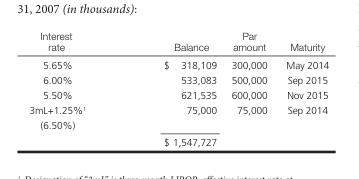table: (28, 28, 328, 147)
table column: (124, 28, 223, 147), (28, 28, 124, 147), (275, 28, 328, 147), (223, 28, 275, 147)
table column header: (28, 28, 328, 55)
table row: (28, 102, 328, 133), (28, 28, 328, 55), (28, 55, 328, 72), (28, 72, 328, 87), (28, 87, 328, 102), (28, 133, 328, 147)
